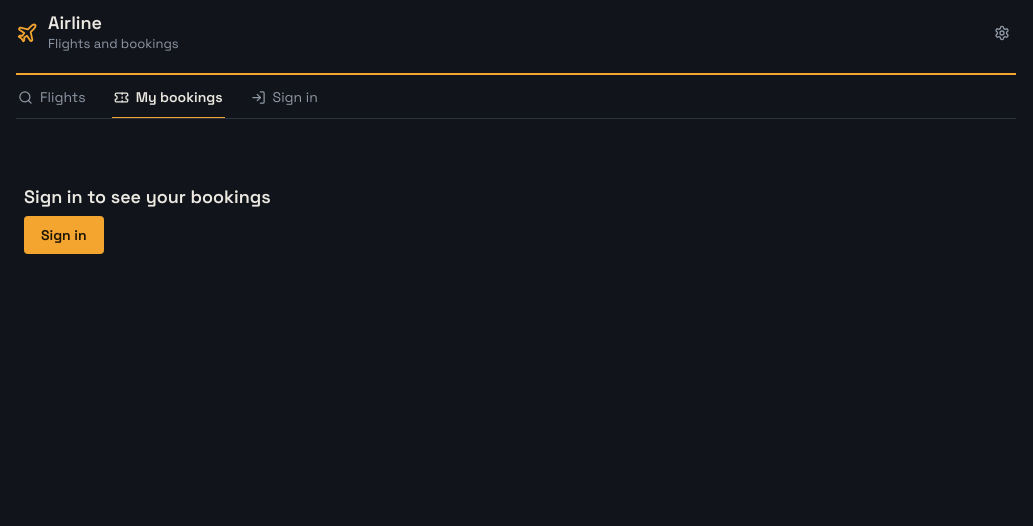
Test: App › signs the person out, with a notice, when the server rejects their token
Expected: the text "Sign in to see your bookings" is shown, [24, 185, 271, 208]
What coordinates should you click on to do the following:
click the 1st button "Sign in"
I would click on:
 (284, 97)
Its box is [249, 75, 320, 119].
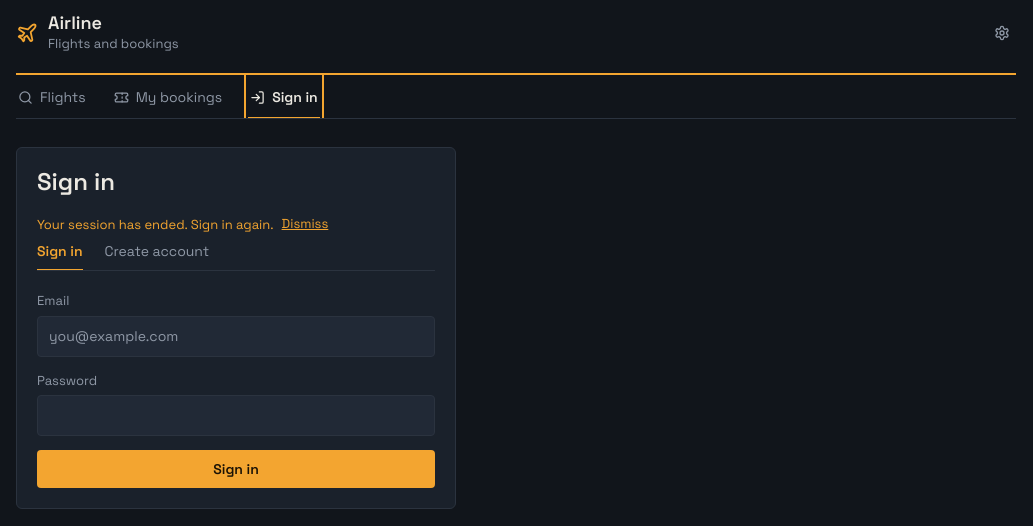
Now the text "Your session has ended. Sign in again." is shown, box [37, 215, 274, 234]
